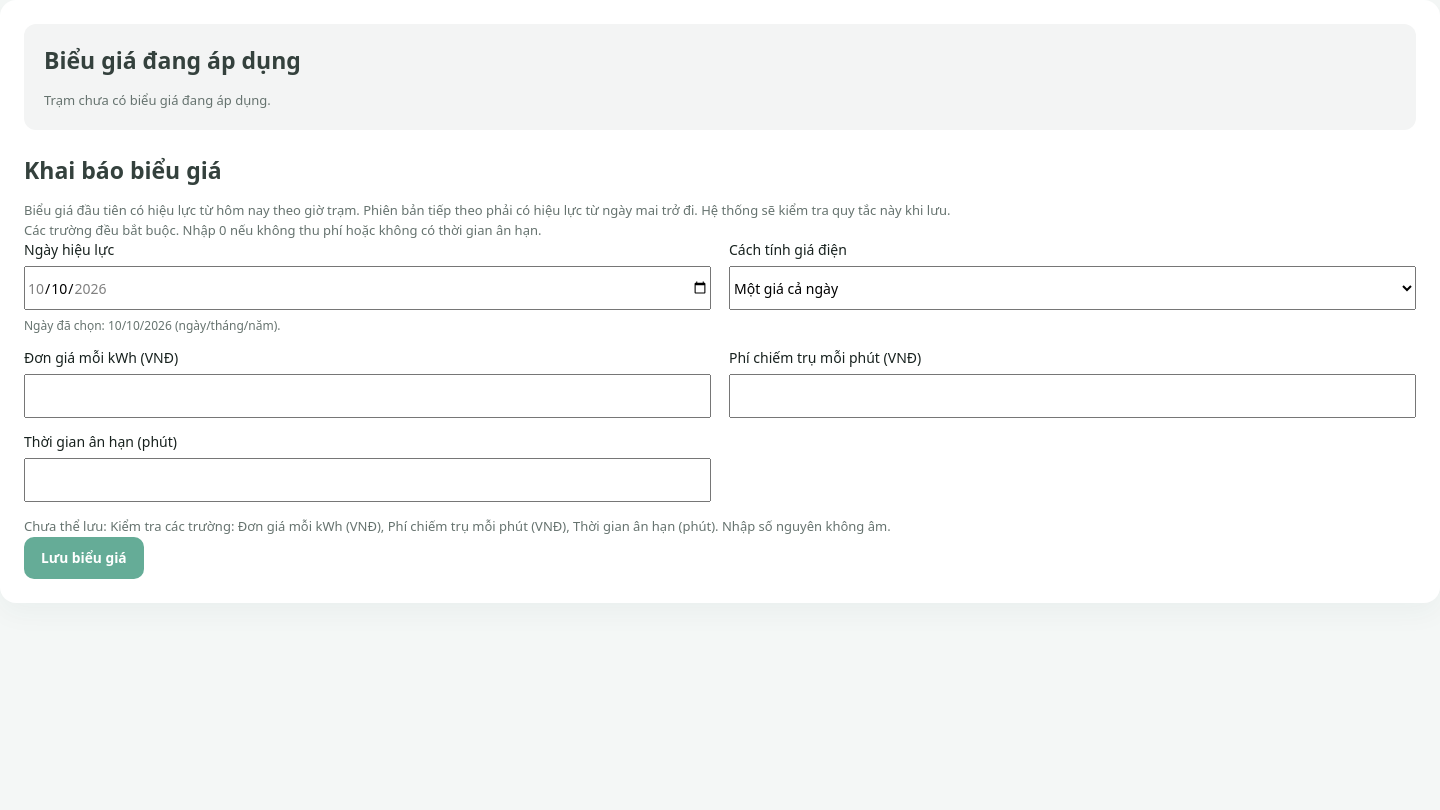
Test case: blocks invalid effective date before a request when hasVersions=false
Type "3500" into the field labelled "Đơn giá mỗi kWh (VNĐ)" at (368, 396), box [24,374,711,418]
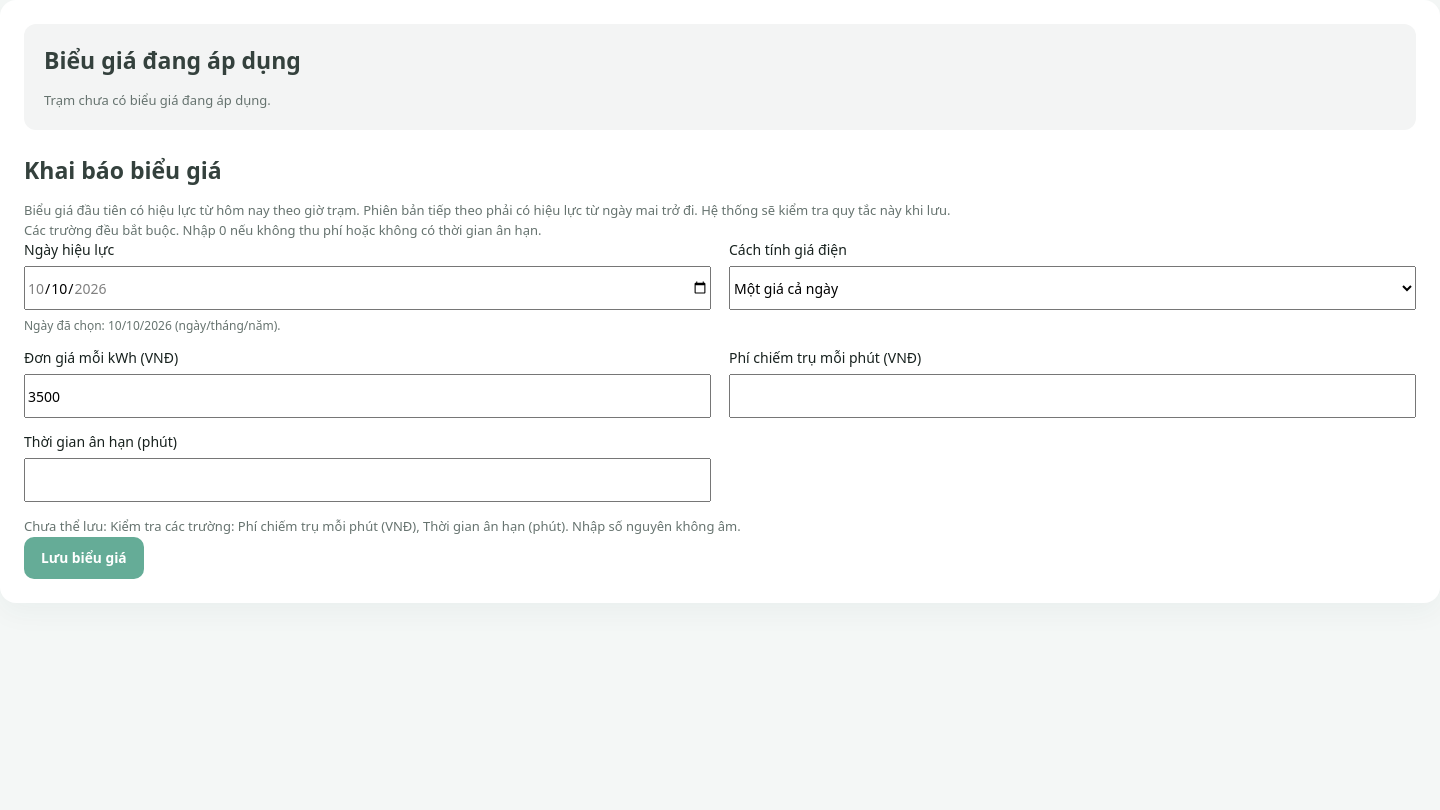
Type "500" into the field labelled "Phí chiếm trụ mỗi phút (VNĐ)" at (1072, 396), box [729,374,1416,418]
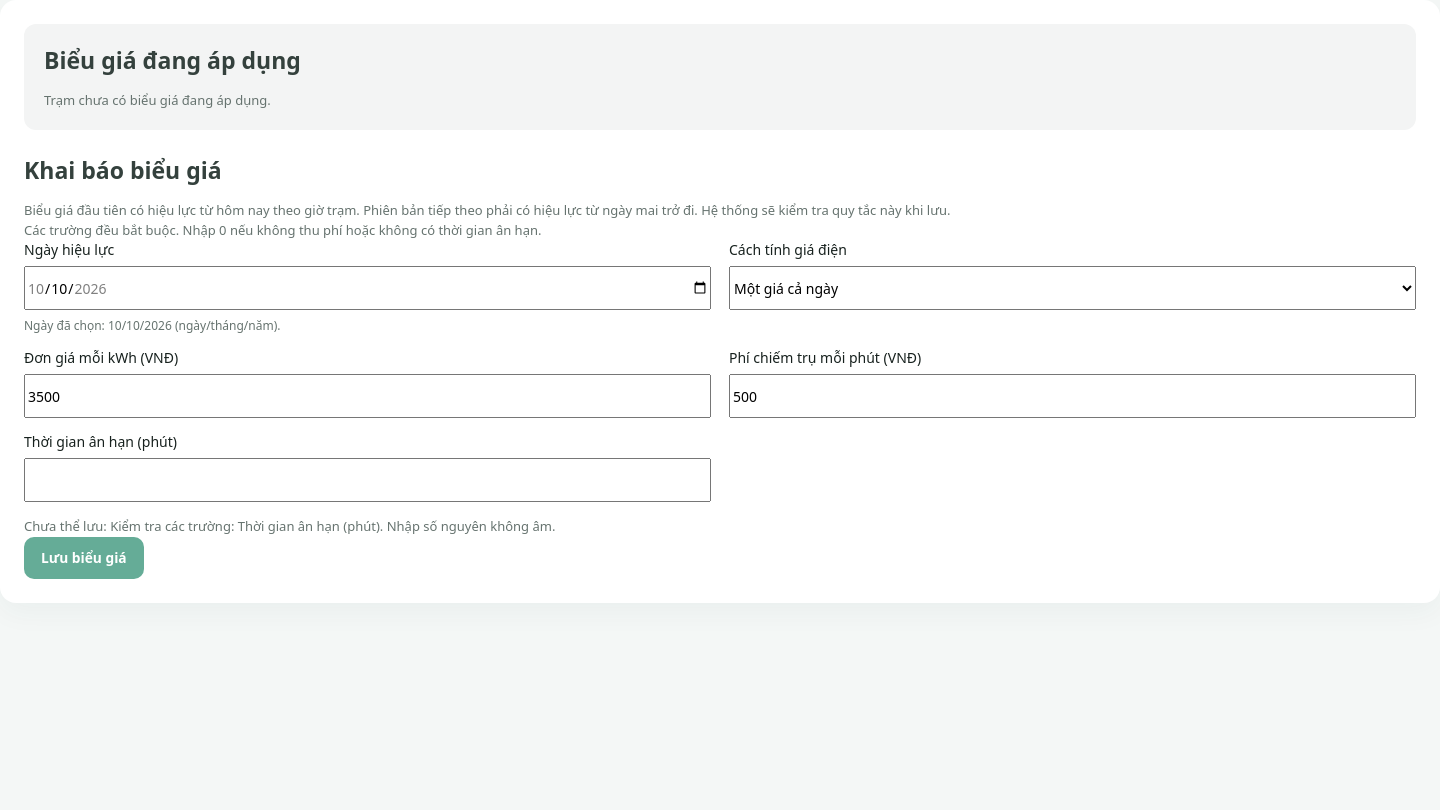
Type "5" into the field labelled "Thời gian ân hạn (phút)" at (368, 480), box [24,458,711,502]
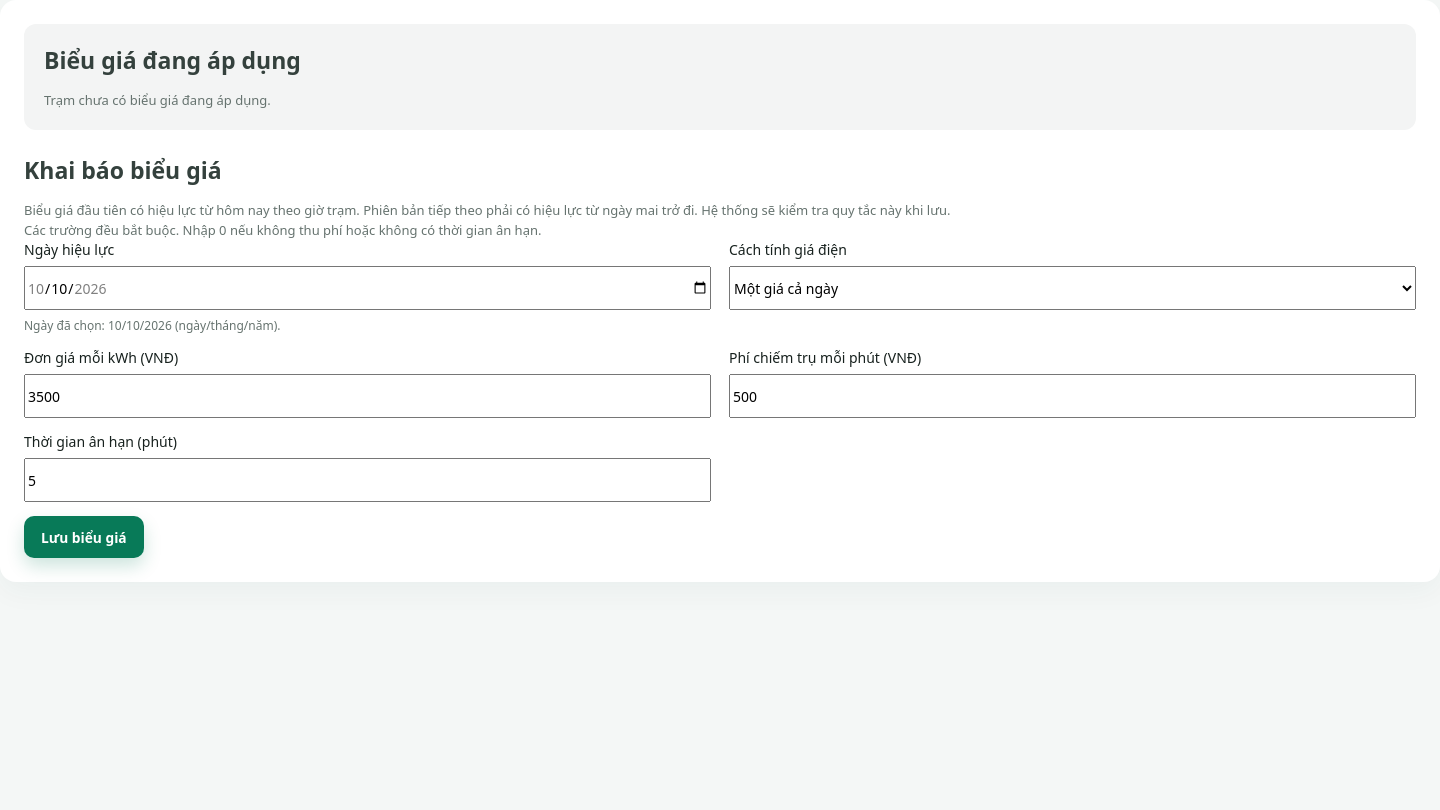
Type "2026-10-11" into the date field labelled "Ngày hiệu lực" at (368, 288), box [24,266,711,310]
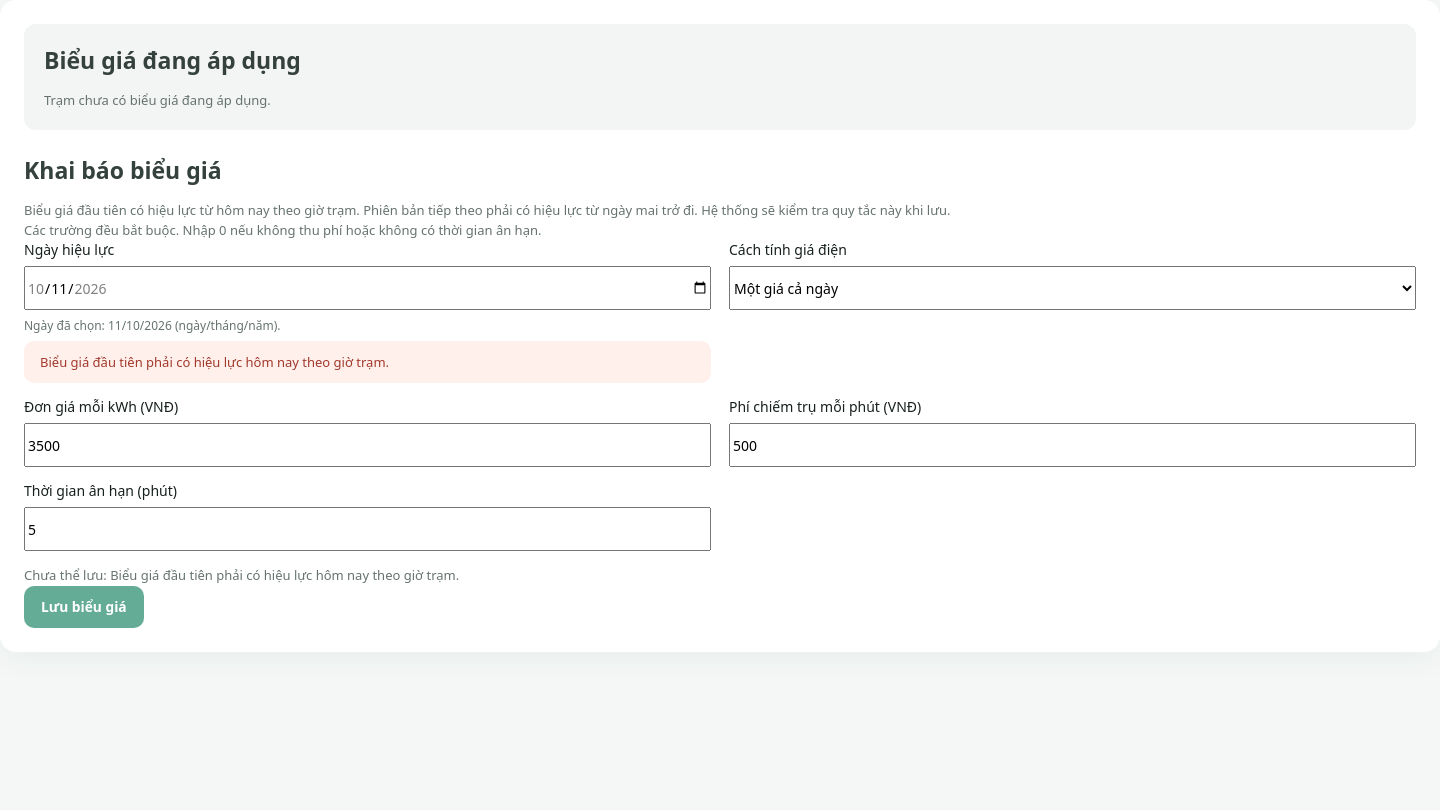
Result: the button "Lưu biểu giá" is disabled at [24,586,144,628]
Result: the message "Biểu giá đầu tiên phải có hiệu lực hôm nay theo giờ trạm." is shown at [24,341,711,383]
